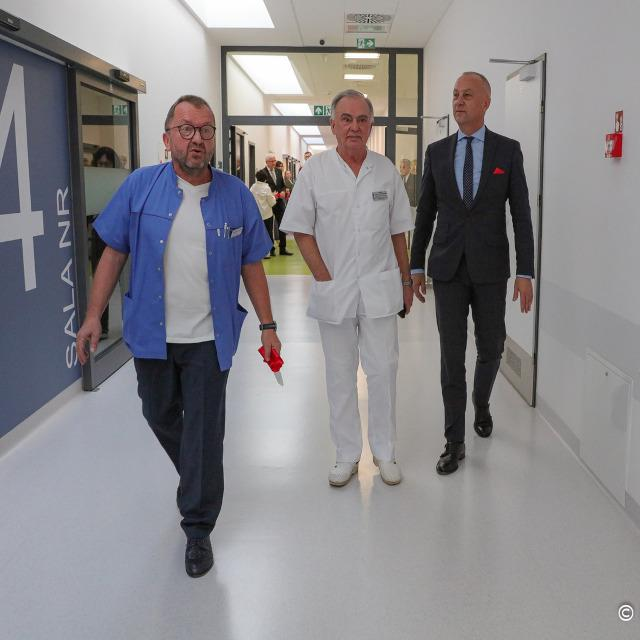kobieta: (248, 166, 275, 241)
mezczyzna: (88, 89, 270, 581), (282, 85, 412, 488), (425, 70, 538, 479), (265, 154, 289, 258), (398, 158, 414, 204)
